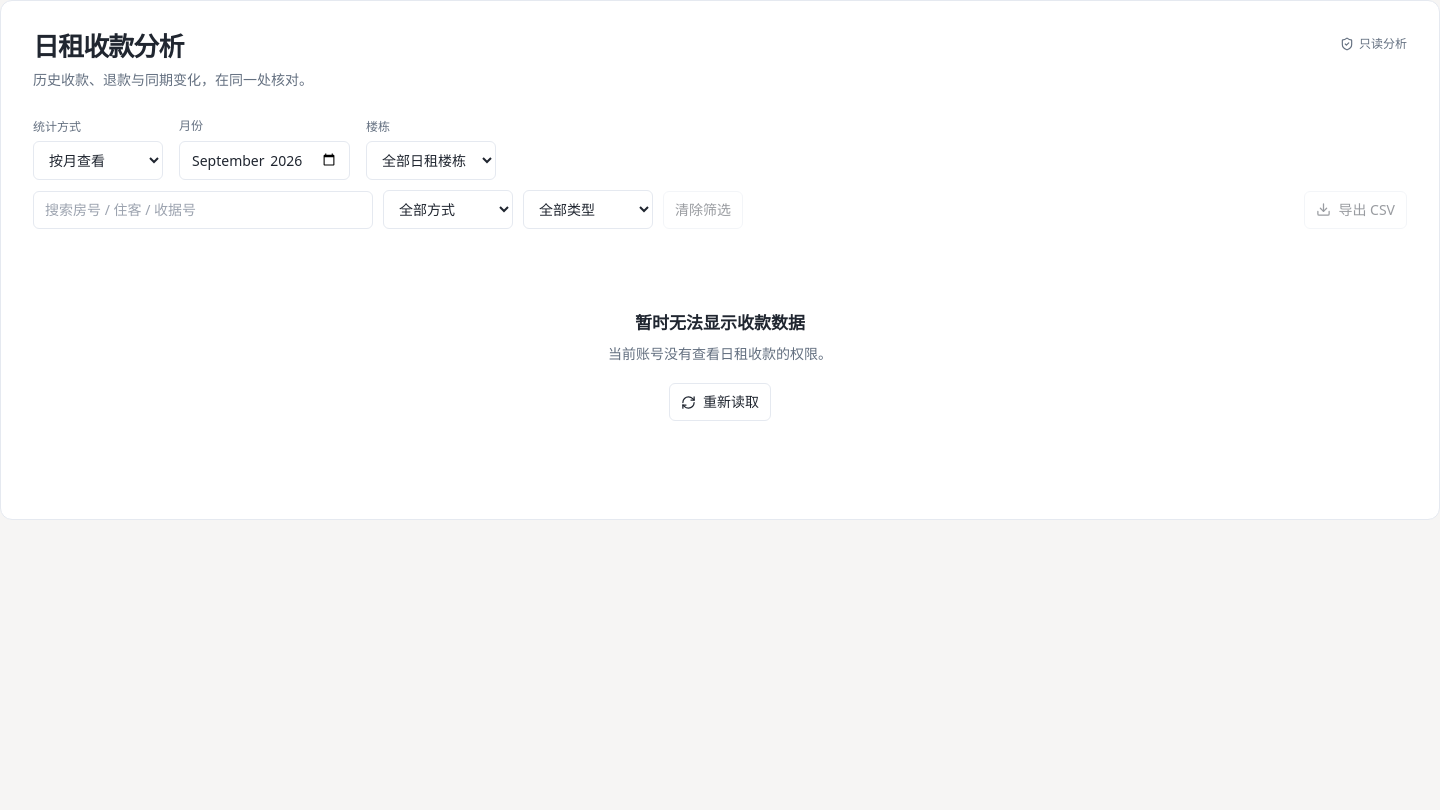
Test: daily receipt history UI › never turns an initial read failure into a zero summary and retries explicitly
Click the button "重新读取": [720, 402] box [669,383,771,421]
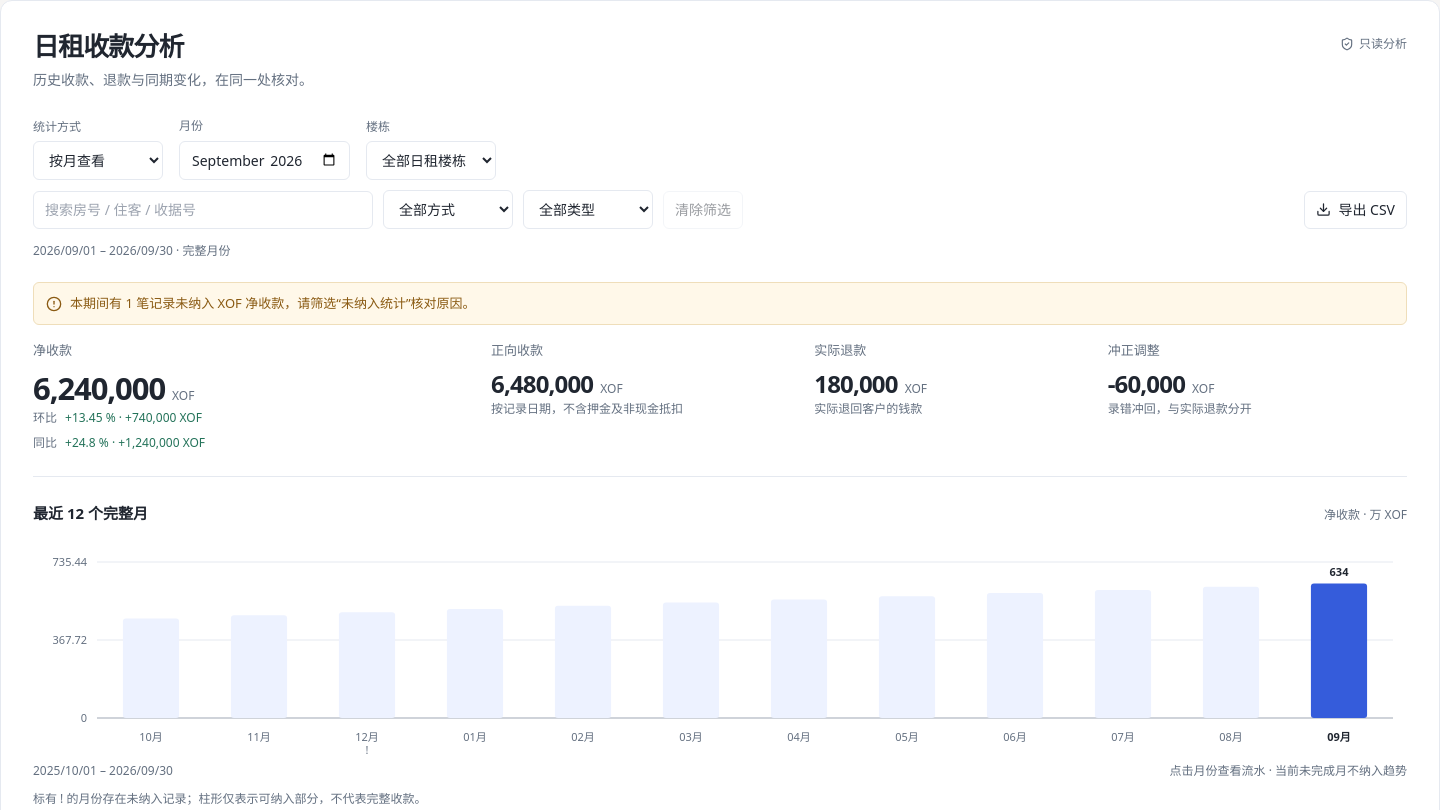
Expected: the text "6,240,000" is shown, [33,367,165,409]
